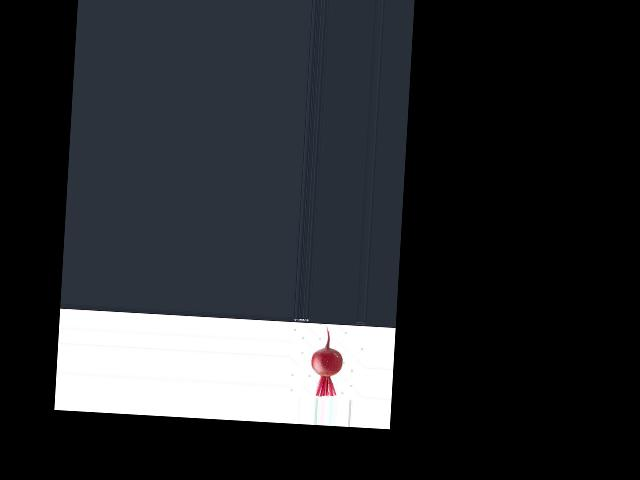beet: (309, 325, 344, 397)
